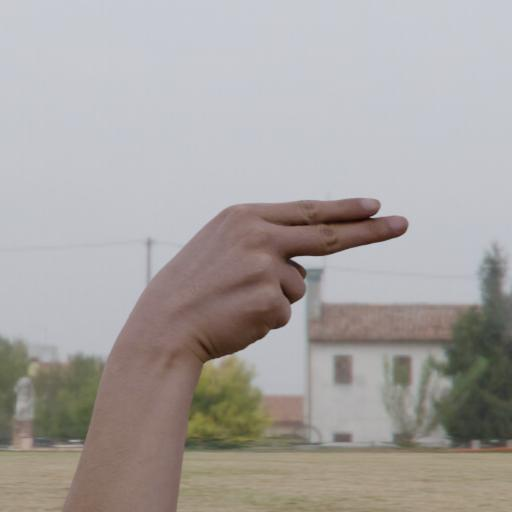H: (94, 186, 422, 371)
